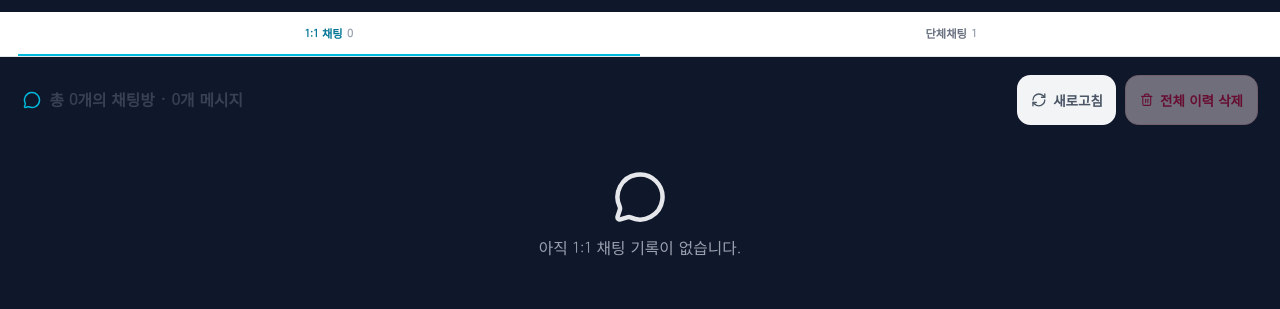
Test case: admin ConfirmDialog › 단체채팅 이력을 방·발신자와 이미지 표시로 매핑한다
The image size is (1280, 309).
Click the button "단체채팅1".
click(951, 34)  # box 640,12 -> 1262,56
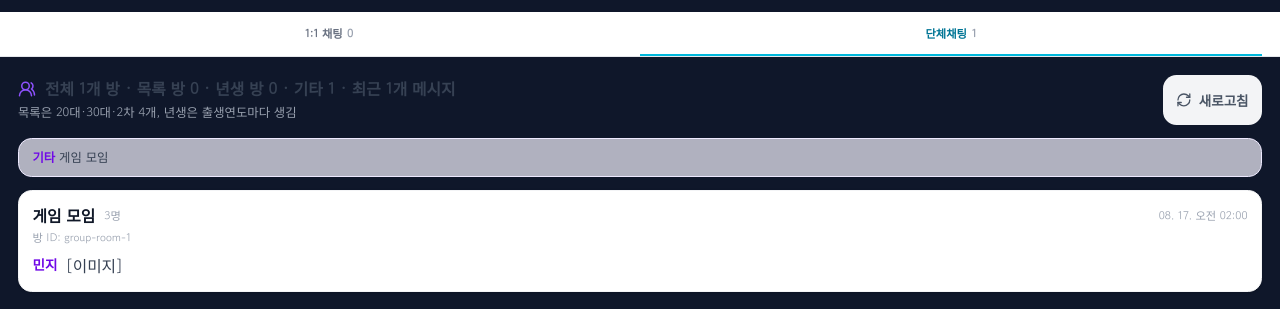
expect the text "게임 모임" is shown: met, box 59,148 -> 108,166
expect the text "전체 1개 방 · 목록 방 0 · 년생 방 0 · 기타 1 · 최근 1개 메시지" is shown: met, box 45,78 -> 456,101
expect the text "방 ID: group-room-1" is shown: met, box 32,229 -> 131,245
